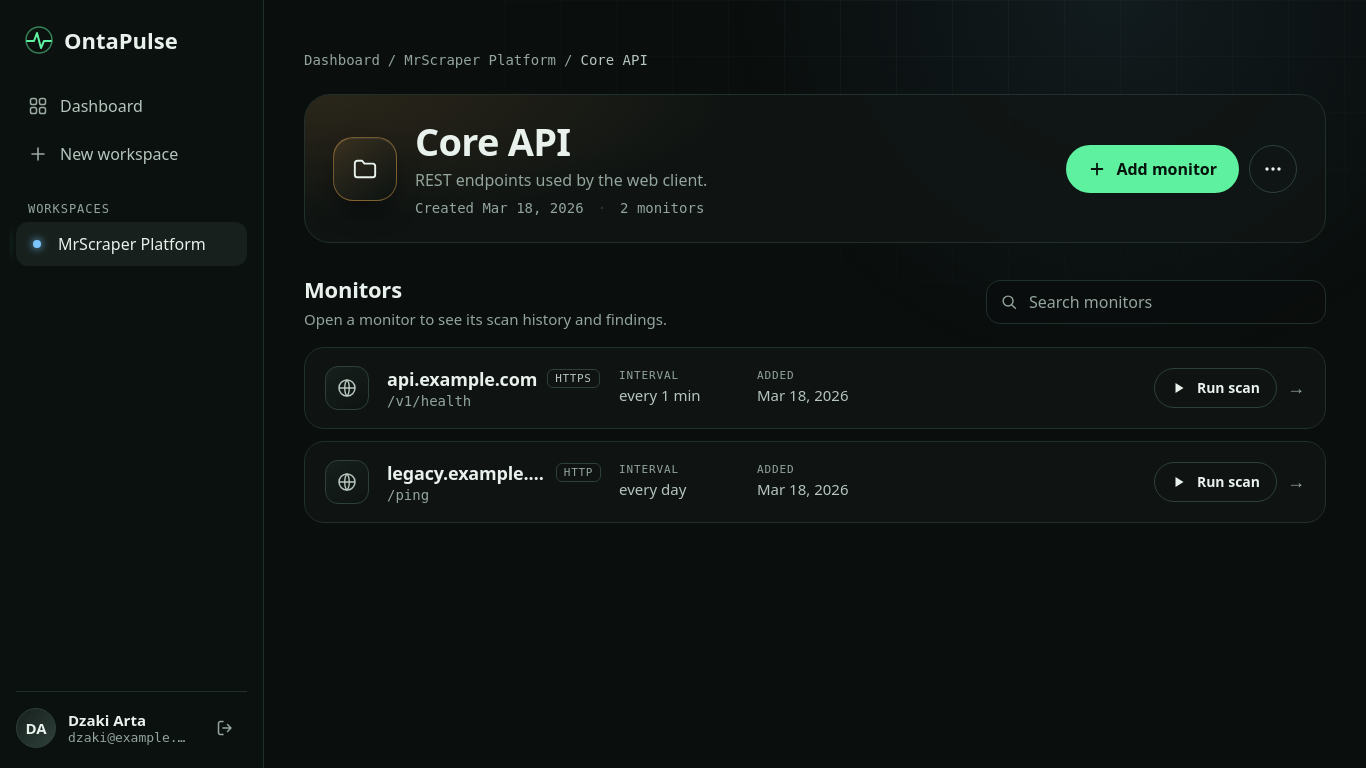
ProjectPage › filters by search and offers to clear it
The width and height of the screenshot is (1366, 768).
Expected: the text "2 monitors" is shown, [598,200,704,216]
Type "legacy" into the search field labelled "Search monitors" at (1156, 302), box [986,280,1326,324]
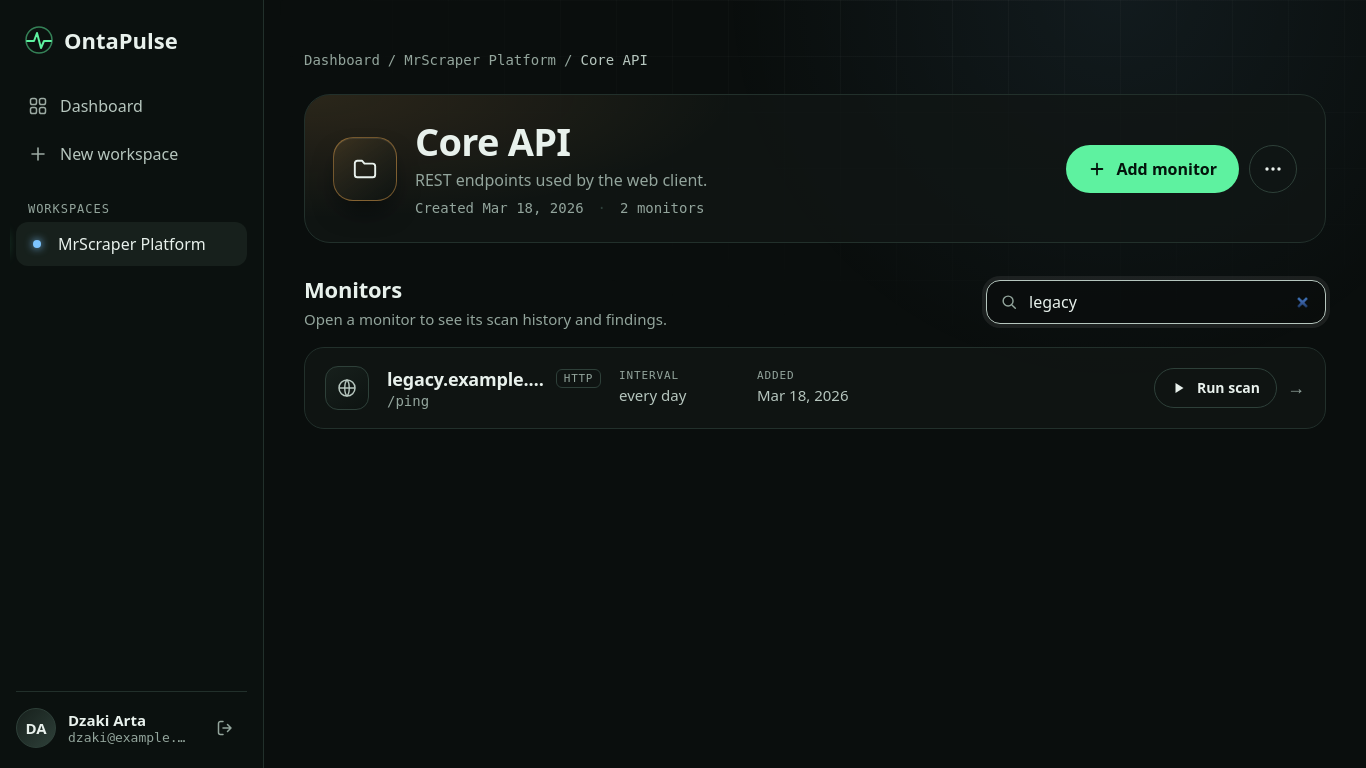
Expected: the text "api.example.com" is gone
Replace the text in the search field named "Search monitors" with "zzz" at (1156, 302), box [986,280,1326,324]
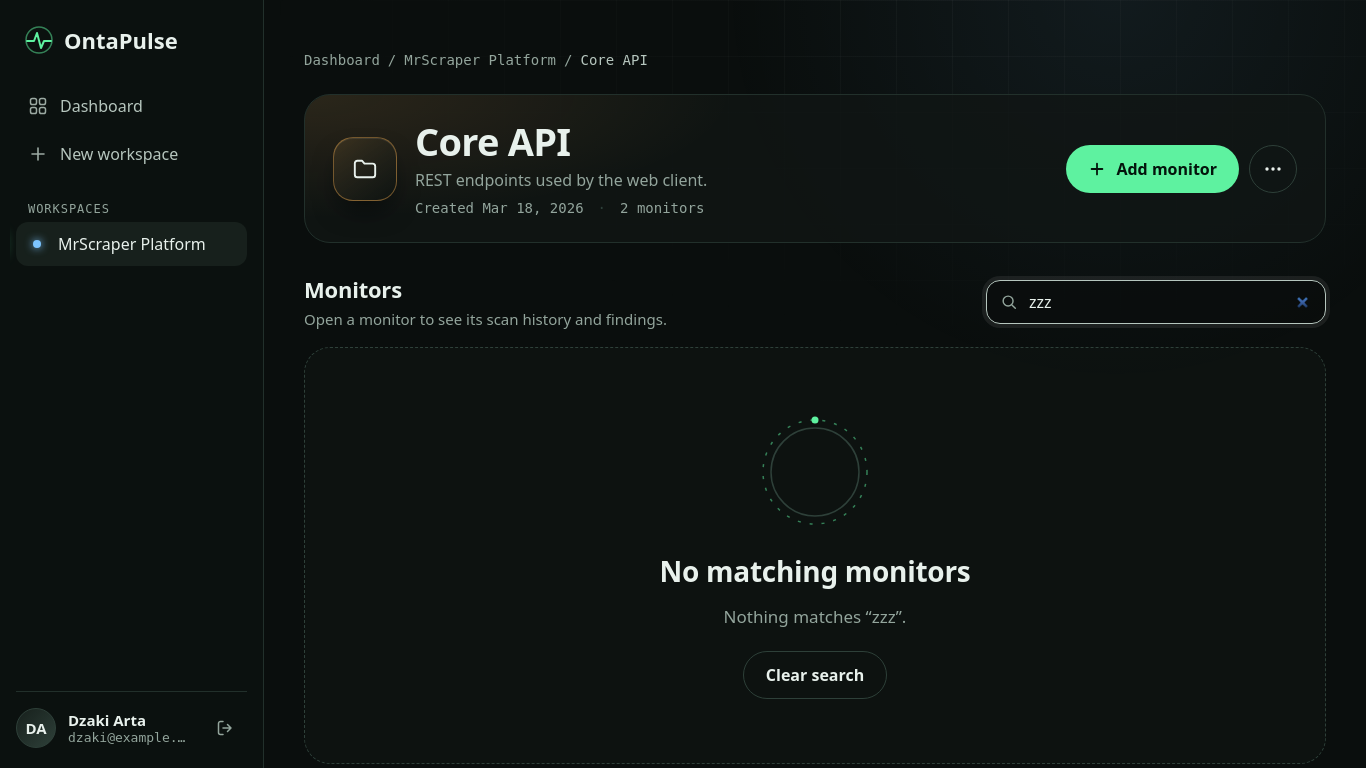
Expected: the heading "No matching monitors" is shown, [660,550,970,592]
Click the button "Clear search" at (815, 675), box [743,651,887,699]
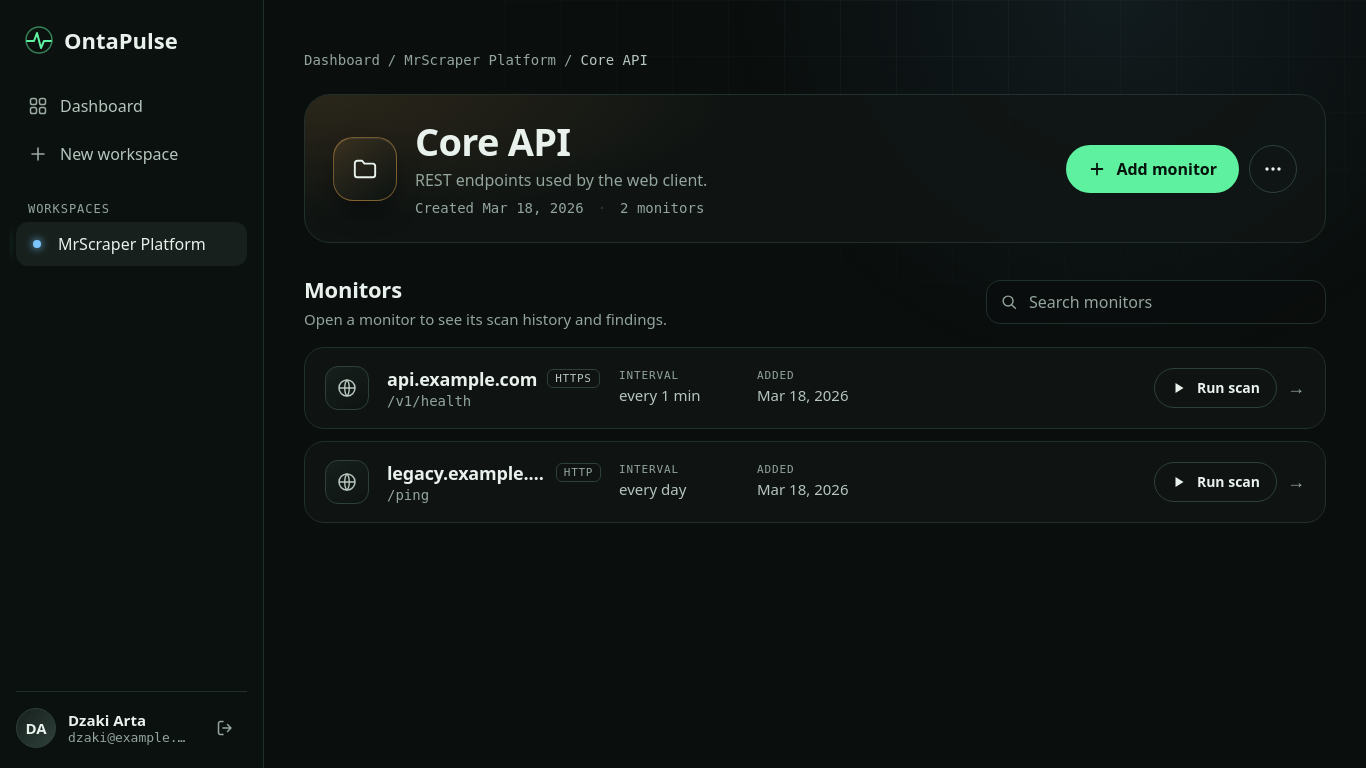
Expected: the text "api.example.com" is shown, [387,366,537,390]
